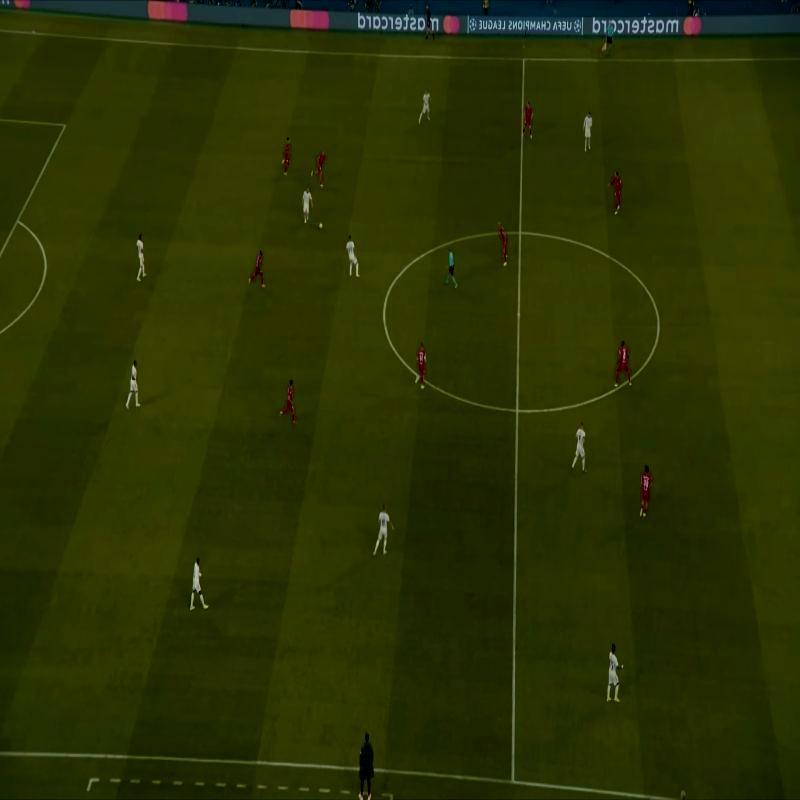10: (8, 206, 27, 236)
13: (516, 49, 530, 70)
14: (511, 225, 528, 242)
15: (509, 403, 526, 420)
16: (505, 772, 522, 792)
9: (58, 118, 74, 134)
c: (648, 316, 666, 334), (376, 304, 393, 320)
